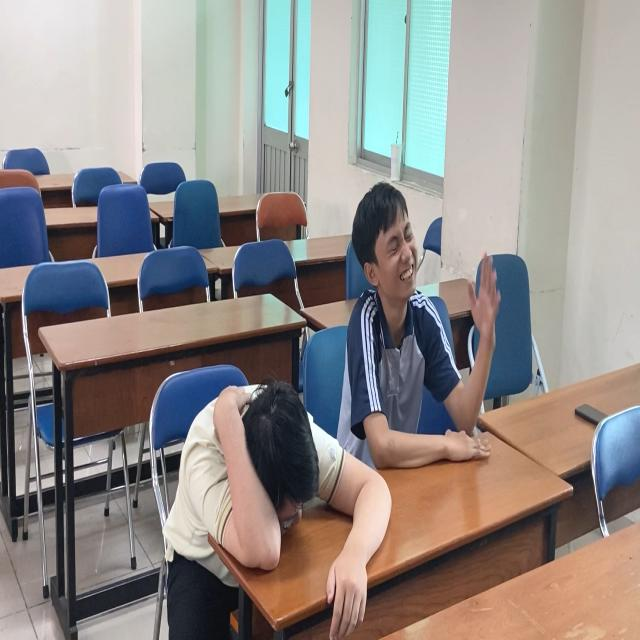sleep: (166, 374, 398, 627)
